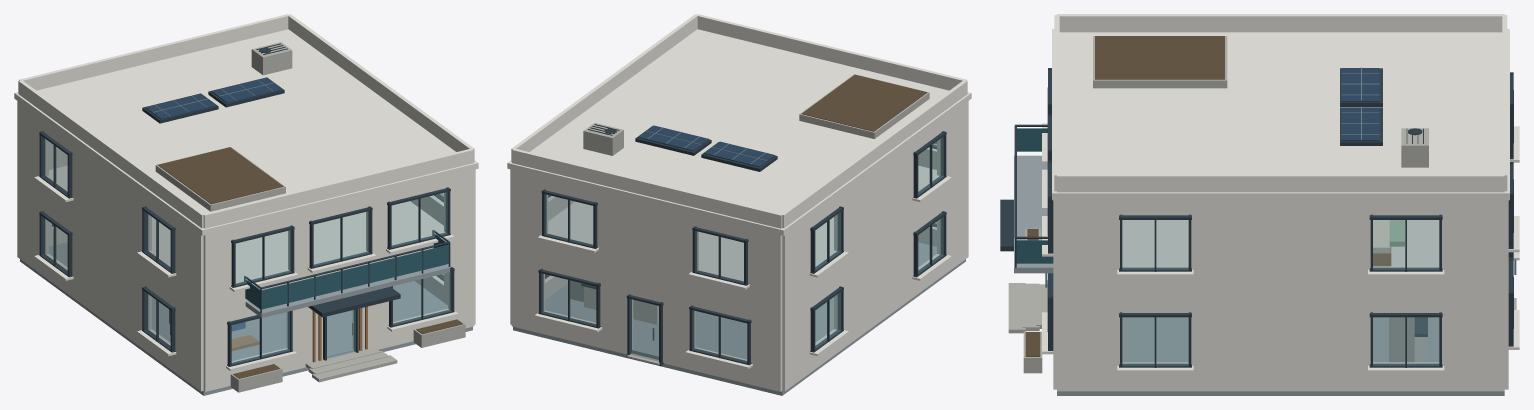
The model's file is House_0.fbx.
3 views of the same model, side by side, from view 1: azimuth 30°, elevation 25°; view 2: azimuth 150°, elevation 25°; view 3: azimuth 270°, elevation 25° (orthographic). The views are drawn at different scales.
Parts seen in each view (by area): view 1: House_0; view 2: House_0; view 3: House_0.
Boxes of the visible parts, x1,y1,x2,y2 form: House_0: [14, 14, 478, 395]; House_0: [507, 14, 971, 395]; House_0: [1000, 14, 1519, 395].
Bounding box in the file's own units: 11.87 × 7.32 × 15.09.
